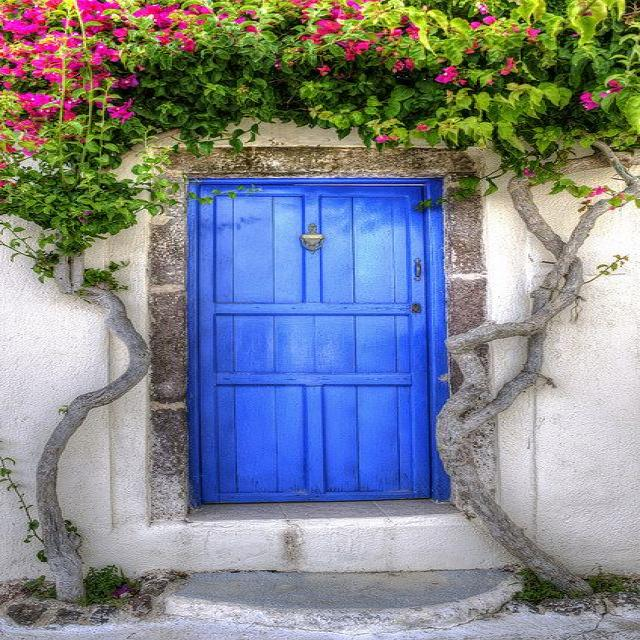close: (190, 180, 456, 514)
